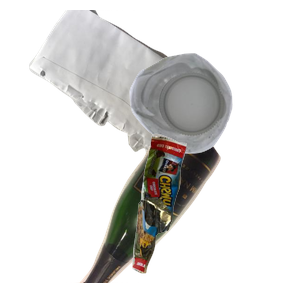glass: (66, 120, 279, 300)
paper: (27, 10, 252, 187)
plastic: (127, 51, 300, 197)
trash: (130, 131, 300, 300)
